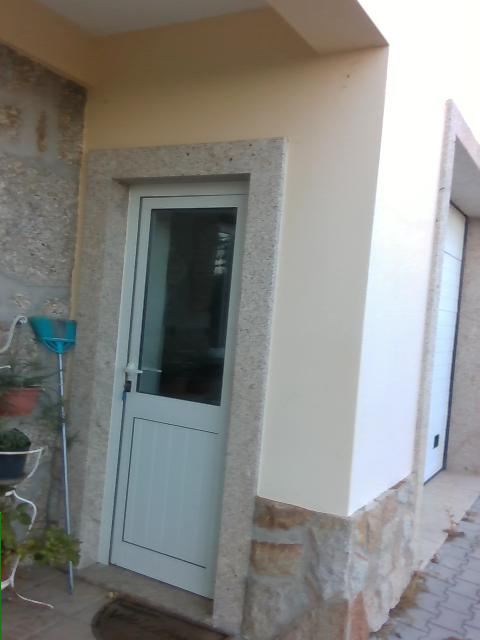door: (97, 178, 252, 599)
